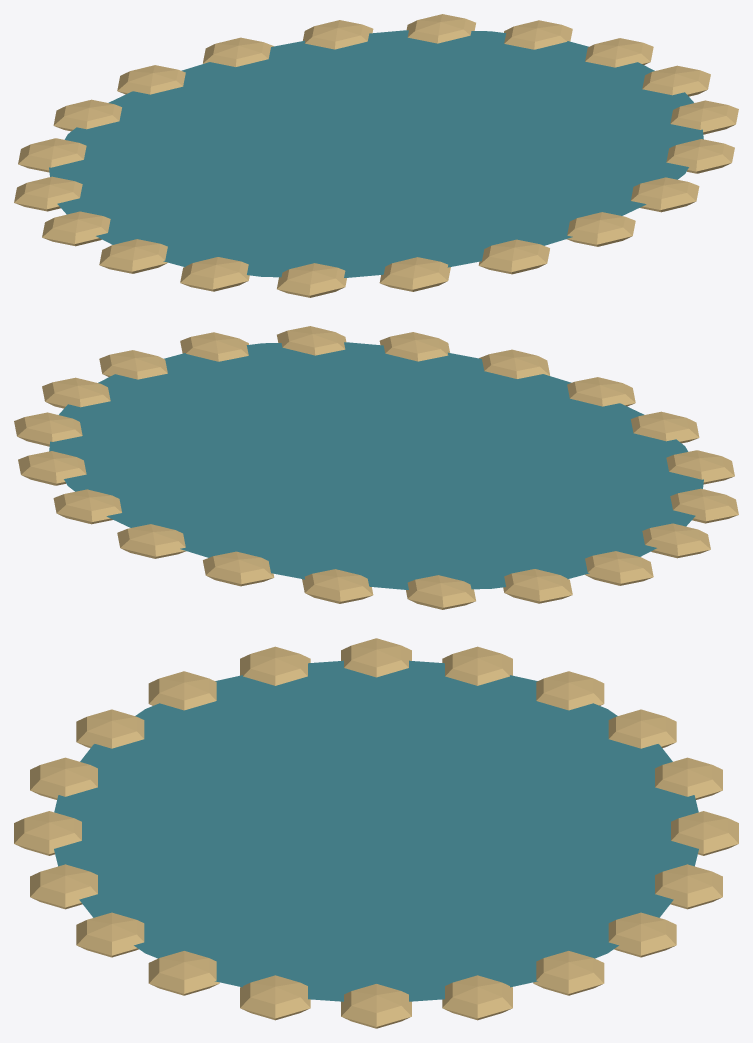
Rendered from landscape-lake.lod0.glb.
3 views of the same model, one above another, from view 1: azimuth 30°, elevation 25°; view 2: azimuth 150°, elevation 25°; view 3: azimuth 270°, elevation 25° (orthographic). The views are drawn at different scales.
Visible parts, largest first — view 1: landscape-lake__body; view 2: landscape-lake__body; view 3: landscape-lake__body.
Boxes of the visible parts, x1,y1,x2,y2 form: landscape-lake__body: [14, 14, 738, 297]; landscape-lake__body: [14, 326, 738, 609]; landscape-lake__body: [14, 638, 738, 1028].
Bounding box in the file's own units: 11.2 × 0.3 × 8.87.
